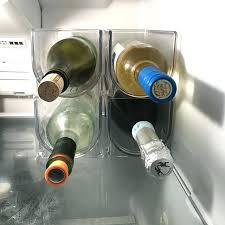beer: (35, 36, 178, 188)
